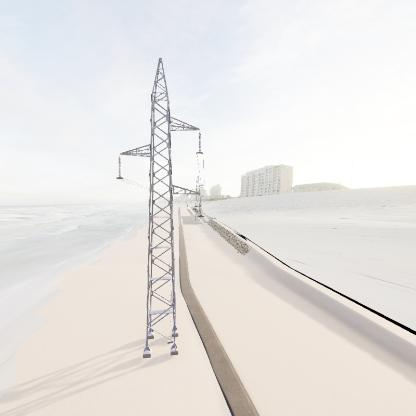tower: (109, 54, 205, 364)
